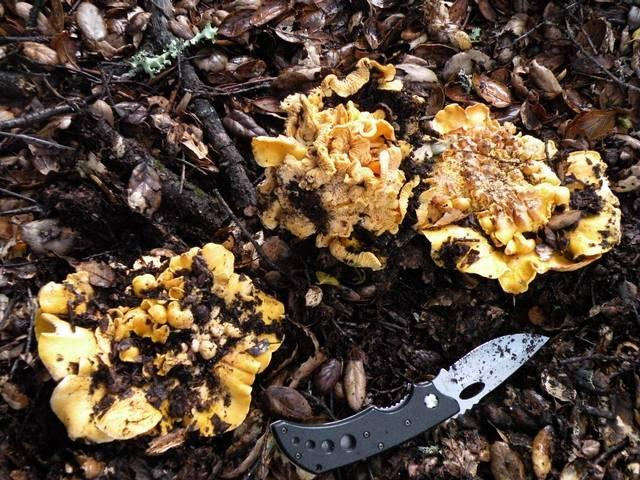Edible Mushroom: (33, 240, 286, 446), (412, 101, 622, 294), (260, 90, 417, 249)
